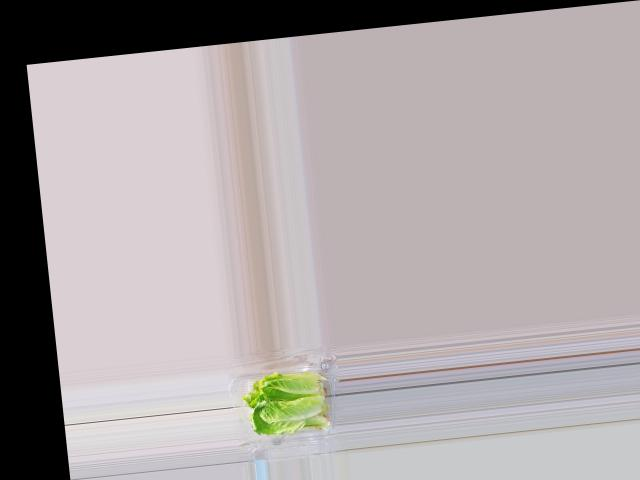lettuce: (240, 368, 327, 438)
